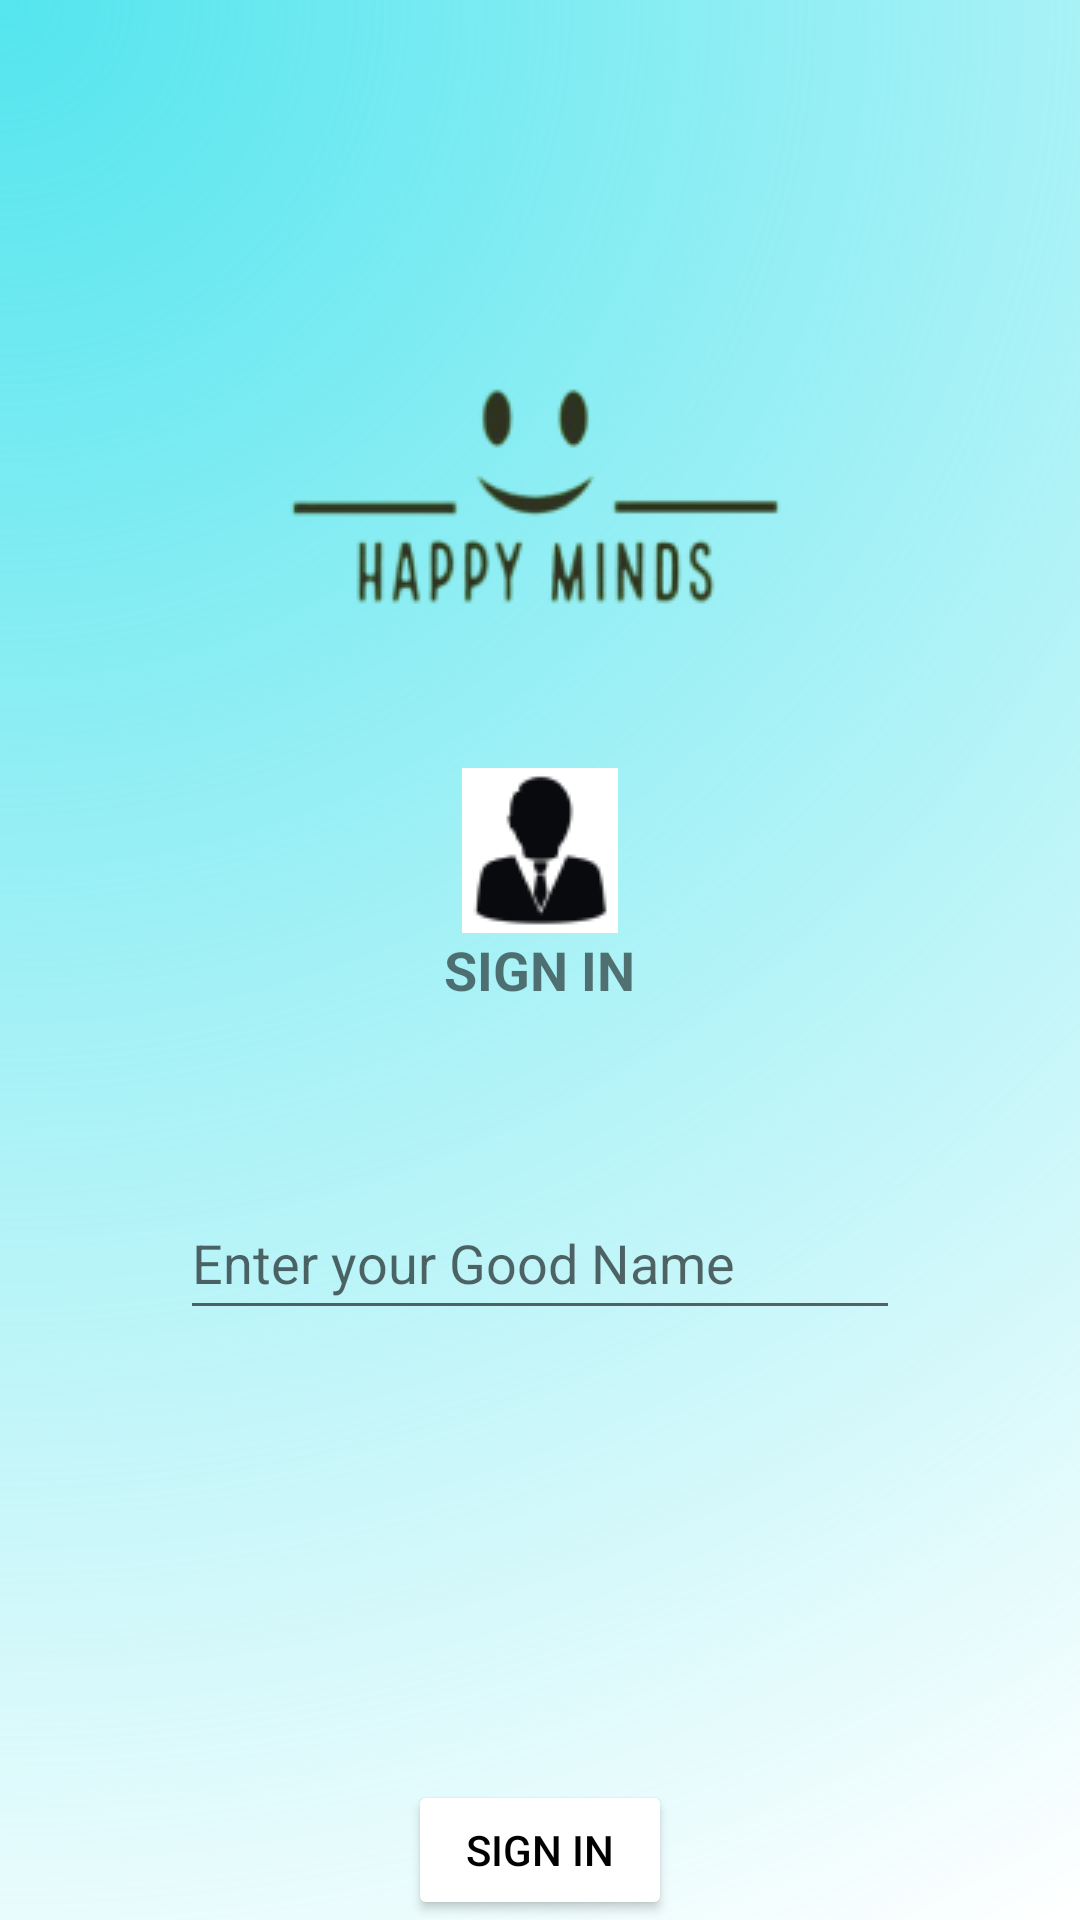

Icon bounding boxes for this 1080px x 1920px phone screenshot, format (x1, y1, x2, y2):
guest: (462, 768, 618, 933)
